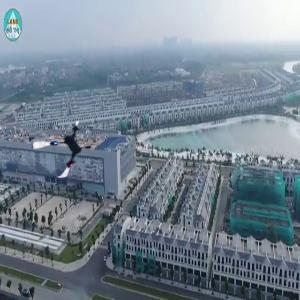drone: (33, 119, 97, 183)
